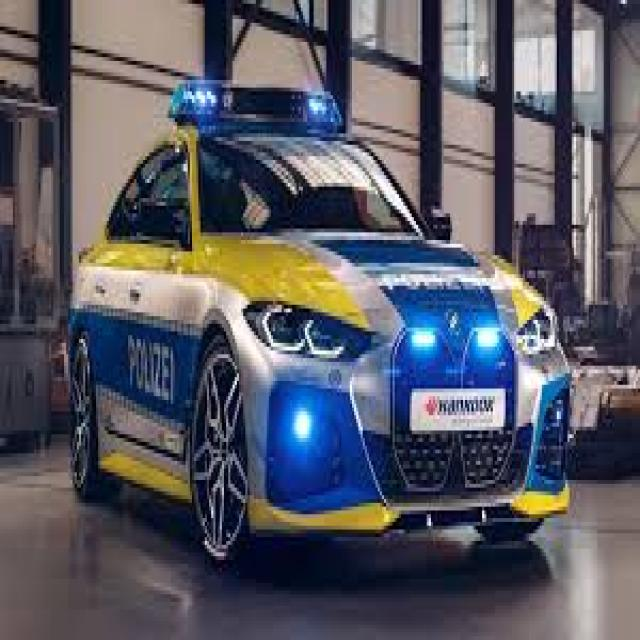Police: (50, 58, 584, 604)
